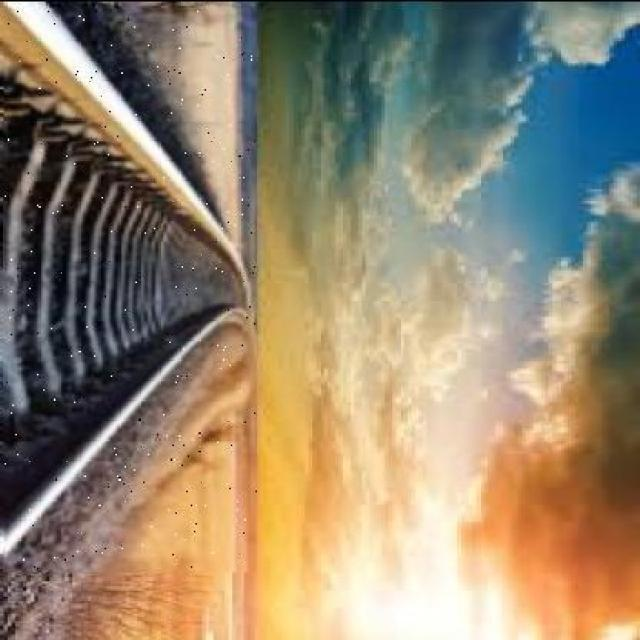rail: (5, 8, 256, 570)
